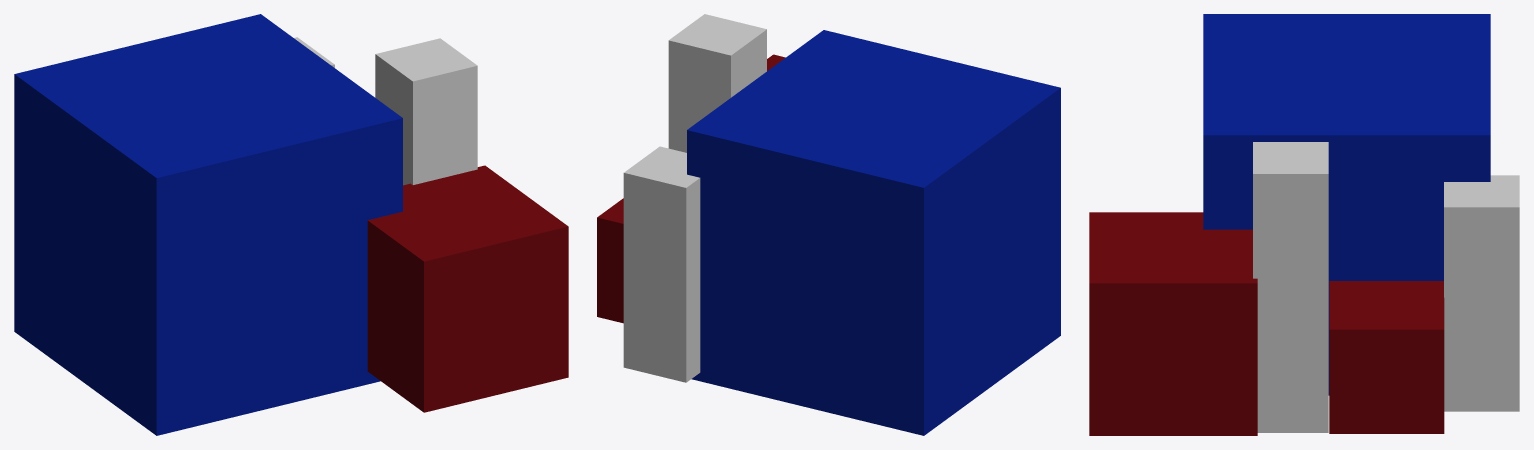
Rendered from Stadt Background.fbx.
3 views of the same model, side by side, from view 1: azimuth 30°, elevation 25°; view 2: azimuth 150°, elevation 25°; view 3: azimuth 270°, elevation 25° (orthographic). The views are drawn at different scales.
Parts seen in each view (by area): view 1: Cube.003; view 2: Cube.003; view 3: Cube.003.
Boxes of the visible parts, left/top/right/bottom form: Cube.003: left=14, top=14, right=568, bottom=435; Cube.003: left=597, top=14, right=1060, bottom=435; Cube.003: left=1089, top=14, right=1519, bottom=435.
Bounding box in the file's own units: 7968 × 5630 × 8120.
